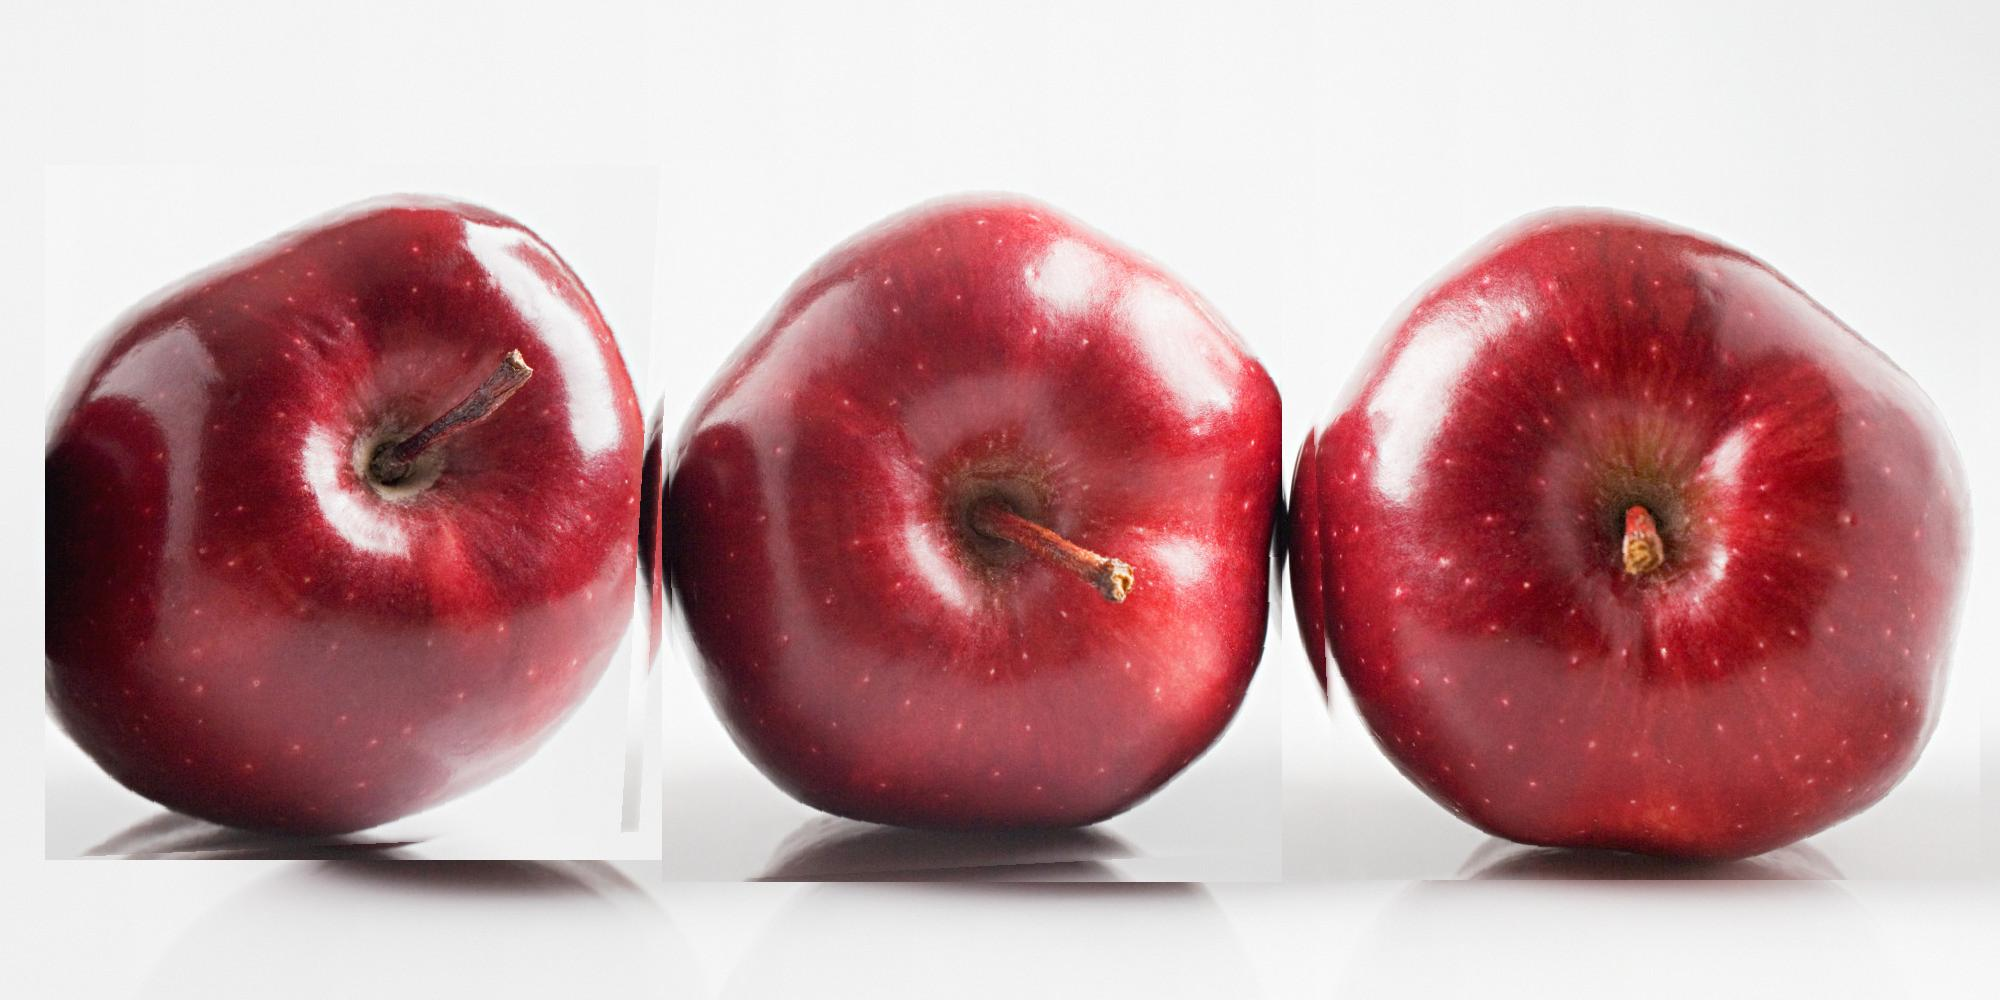Apple Fresh: (1300, 165, 1980, 880), (662, 161, 1282, 883), (45, 165, 680, 860)
